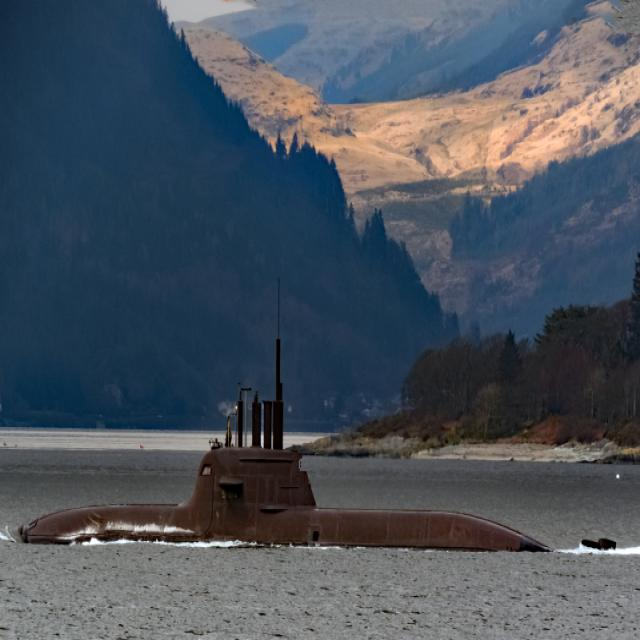submarine: (17, 273, 550, 547)
